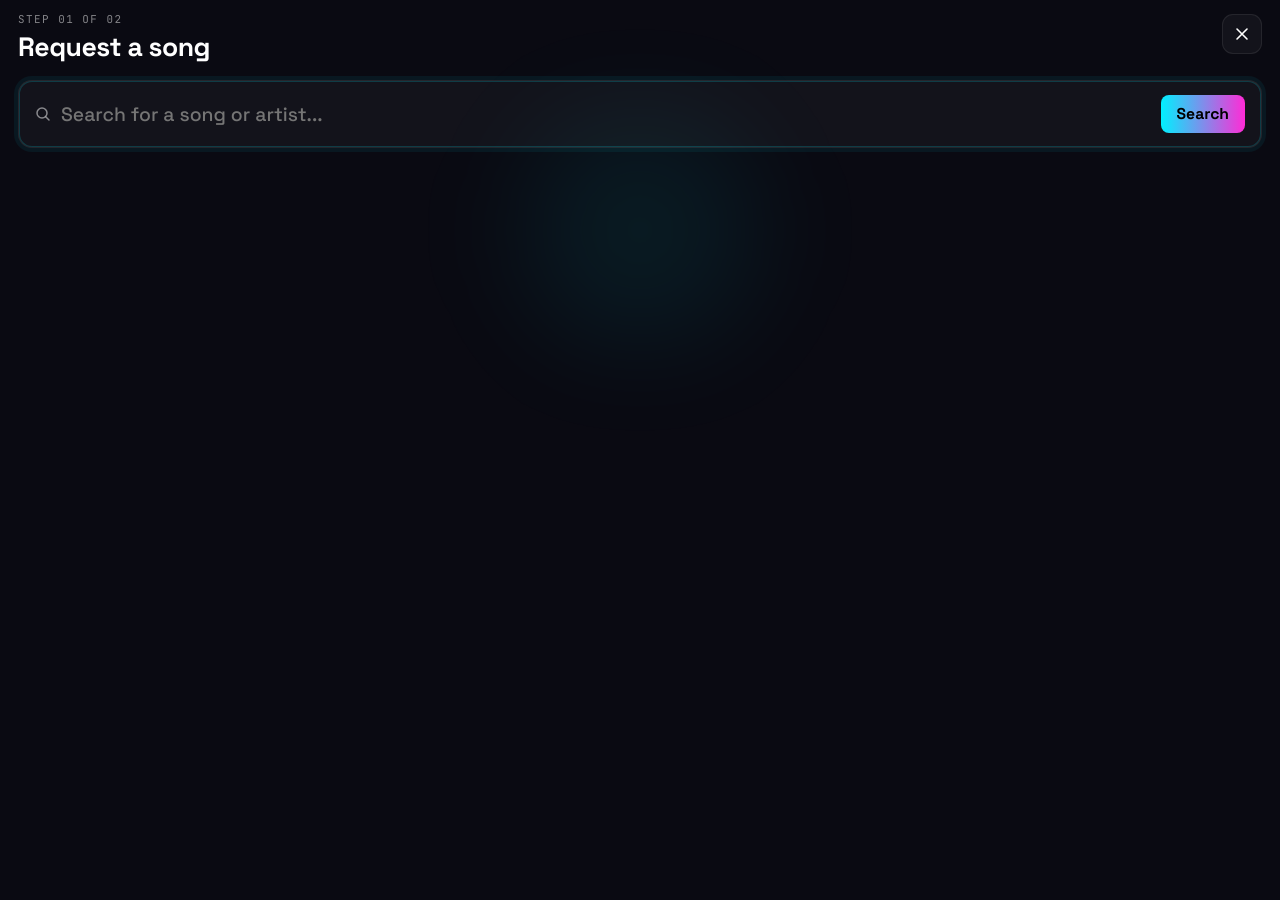
JoinEventPage — search and submission flow › shows beatport icon for beatport source results
Type "BP" into the field with placeholder "Search for a song or artist...". click: coordinates (606, 114)
box: [61, 102, 1151, 126]
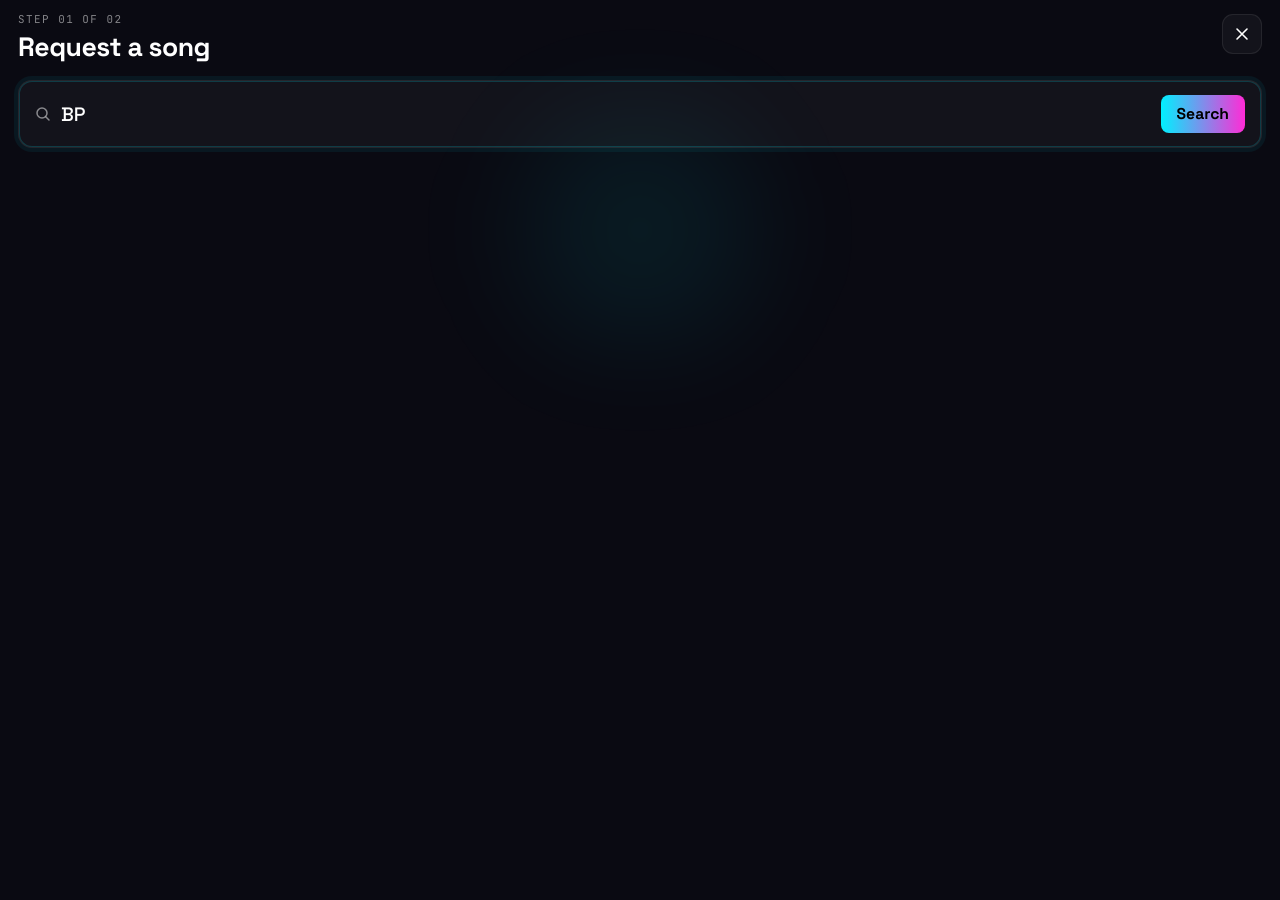
Submit the form from the button "Search", box [1161, 95, 1245, 133]
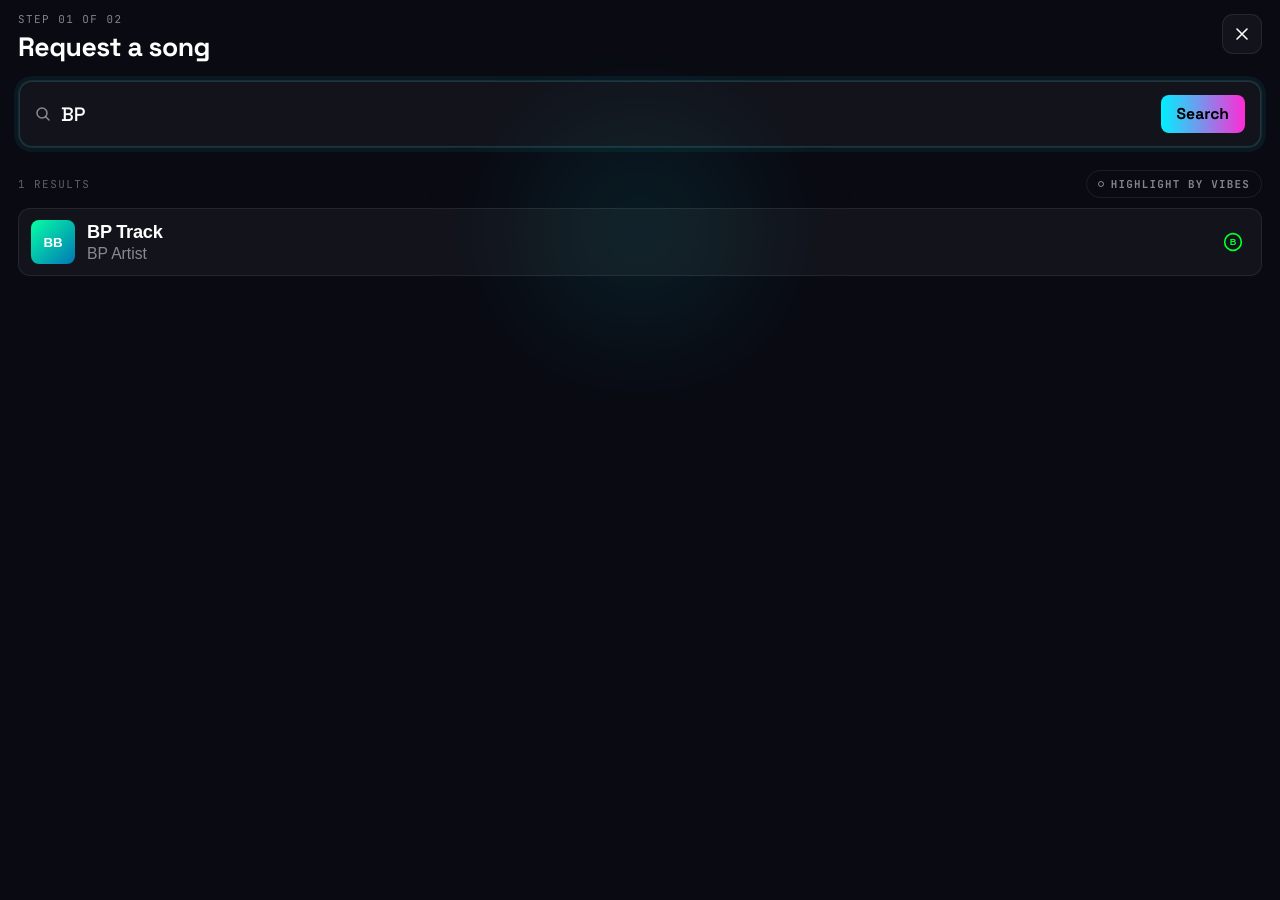
Expected: the text "BP Track" is shown, [87, 222, 162, 242]
Expected: the element titled "Beatport" is shown, [1223, 232, 1243, 252]
